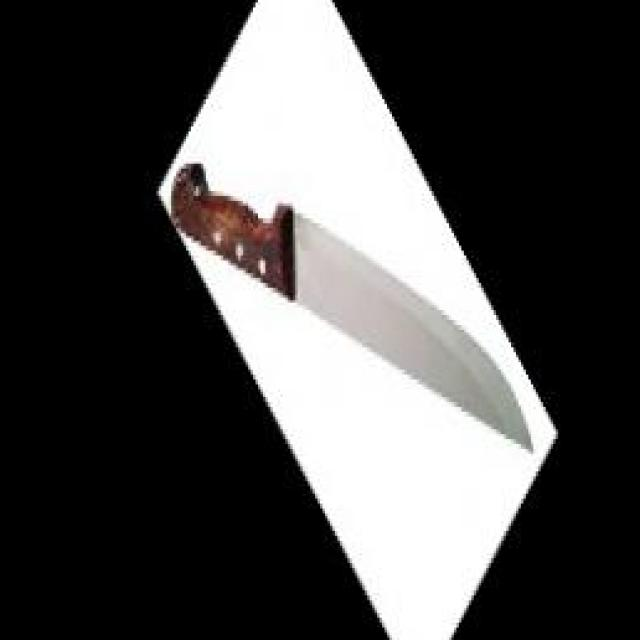knife: (171, 152, 540, 462)
